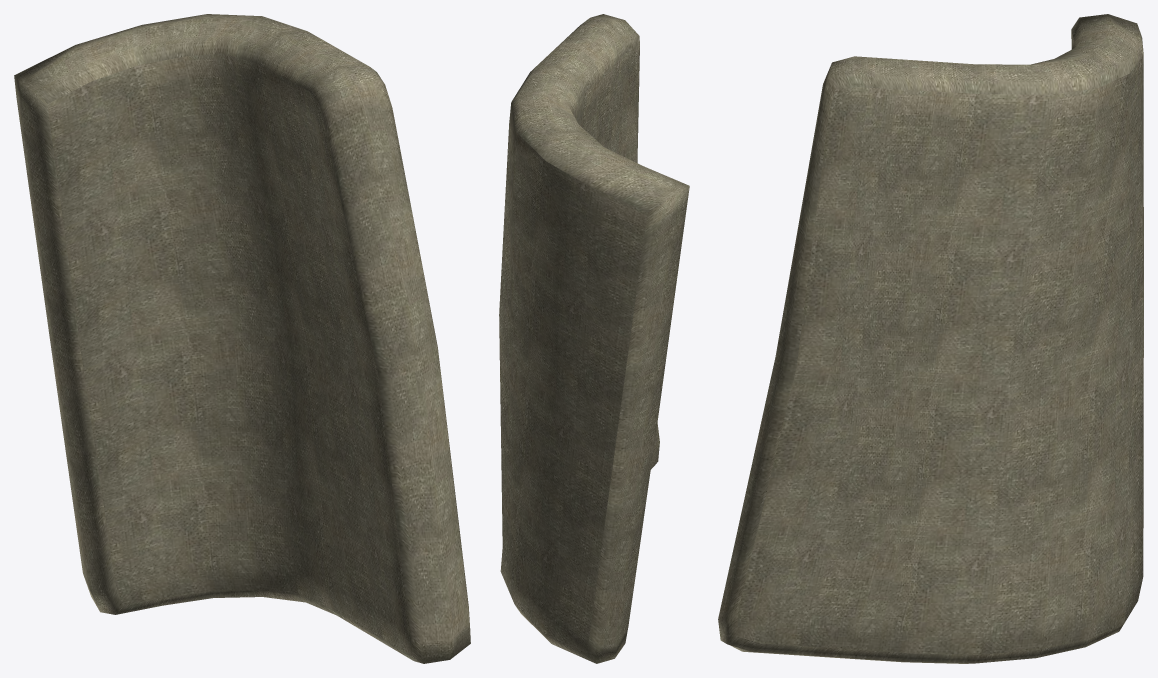
File: furniture_bedmattress2.glb
3 renders of one model, left to right at view 1: azimuth 30°, elevation 25°; view 2: azimuth 150°, elevation 25°; view 3: azimuth 270°, elevation 25°, orthographic. The views are drawn at different scales.
Size of the model in its own units: 50.48 by 107 by 67.51.
Materials: 2 (2 with a texture image).
